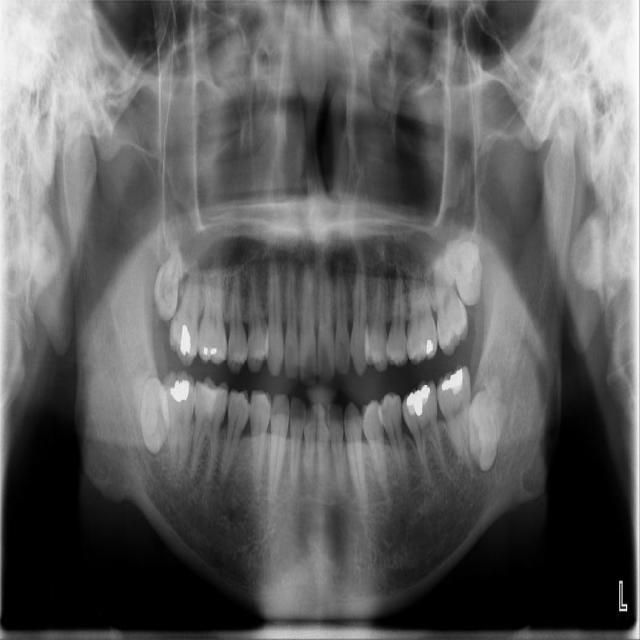3M ESPE Implant: (150, 238, 185, 323)
52: (389, 374, 451, 434), (425, 361, 485, 419), (157, 367, 200, 421), (165, 307, 203, 367), (189, 375, 231, 426), (402, 313, 442, 366), (195, 315, 232, 366)
73: (604, 595, 611, 605)
BioHorizons Implant: (429, 250, 472, 358)
BioLife Implant: (442, 239, 491, 310)
Biomet 3i Implant: (467, 378, 510, 472)
Blue Sky Bio Implant: (435, 364, 476, 478)
Caries: (167, 258, 203, 366)
Implant: (152, 368, 199, 475)
Keystone Dental Implant: (141, 377, 170, 456)
